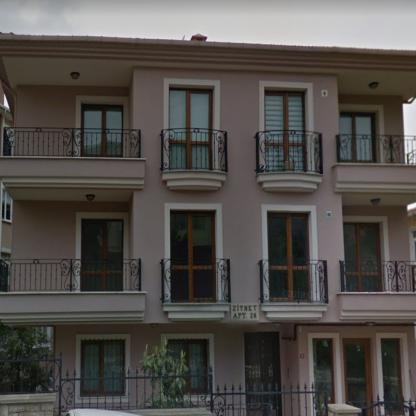door: (247, 336, 276, 410)
window: (171, 213, 214, 301), (268, 212, 310, 300), (168, 88, 209, 169), (82, 219, 123, 291), (267, 93, 305, 169), (344, 225, 380, 289), (84, 342, 124, 394), (81, 107, 123, 156), (167, 340, 208, 390), (340, 115, 375, 162), (344, 342, 367, 404), (312, 339, 332, 403), (382, 340, 401, 404), (1, 190, 12, 221)
